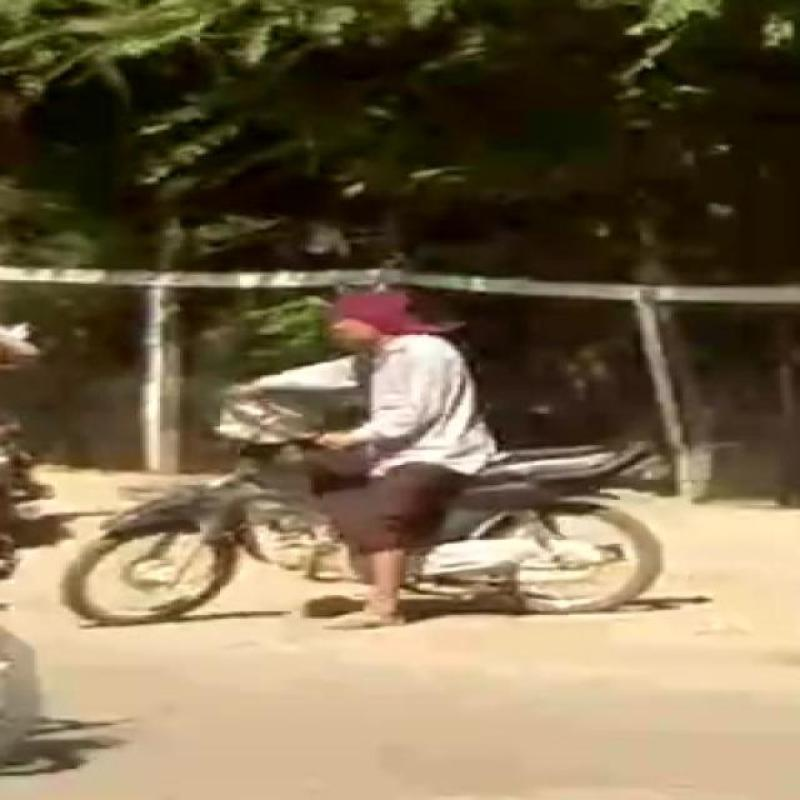nohelmet: (289, 285, 463, 354)
